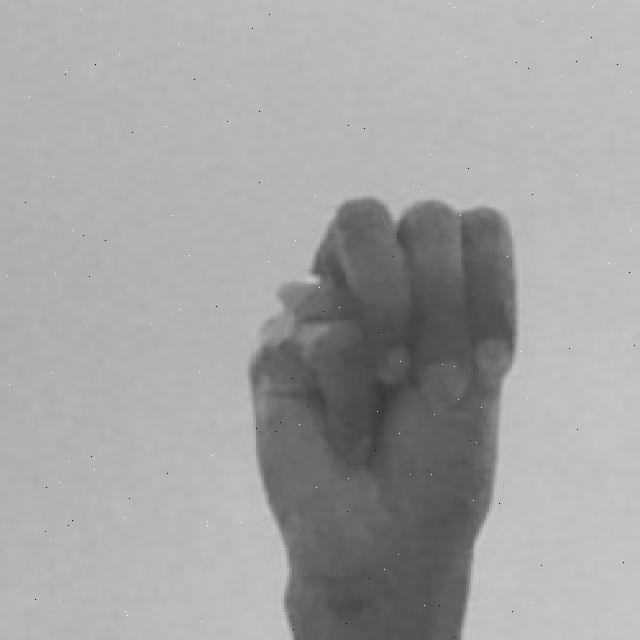M: (240, 191, 524, 640)
